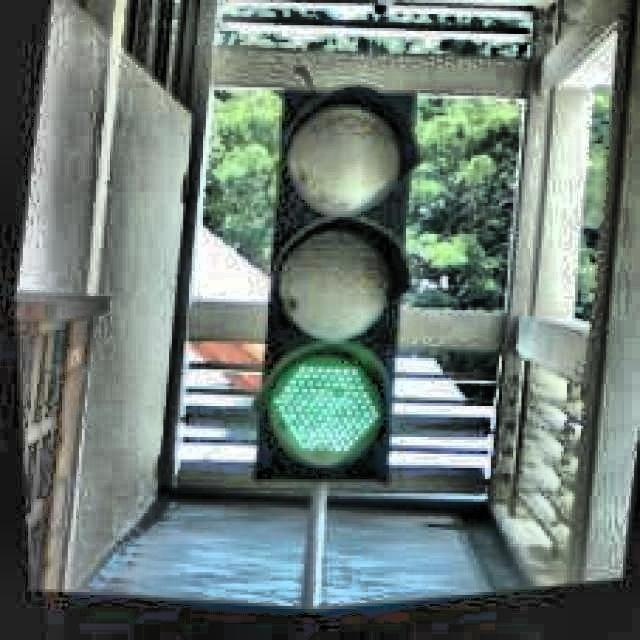green: (263, 89, 407, 478)
